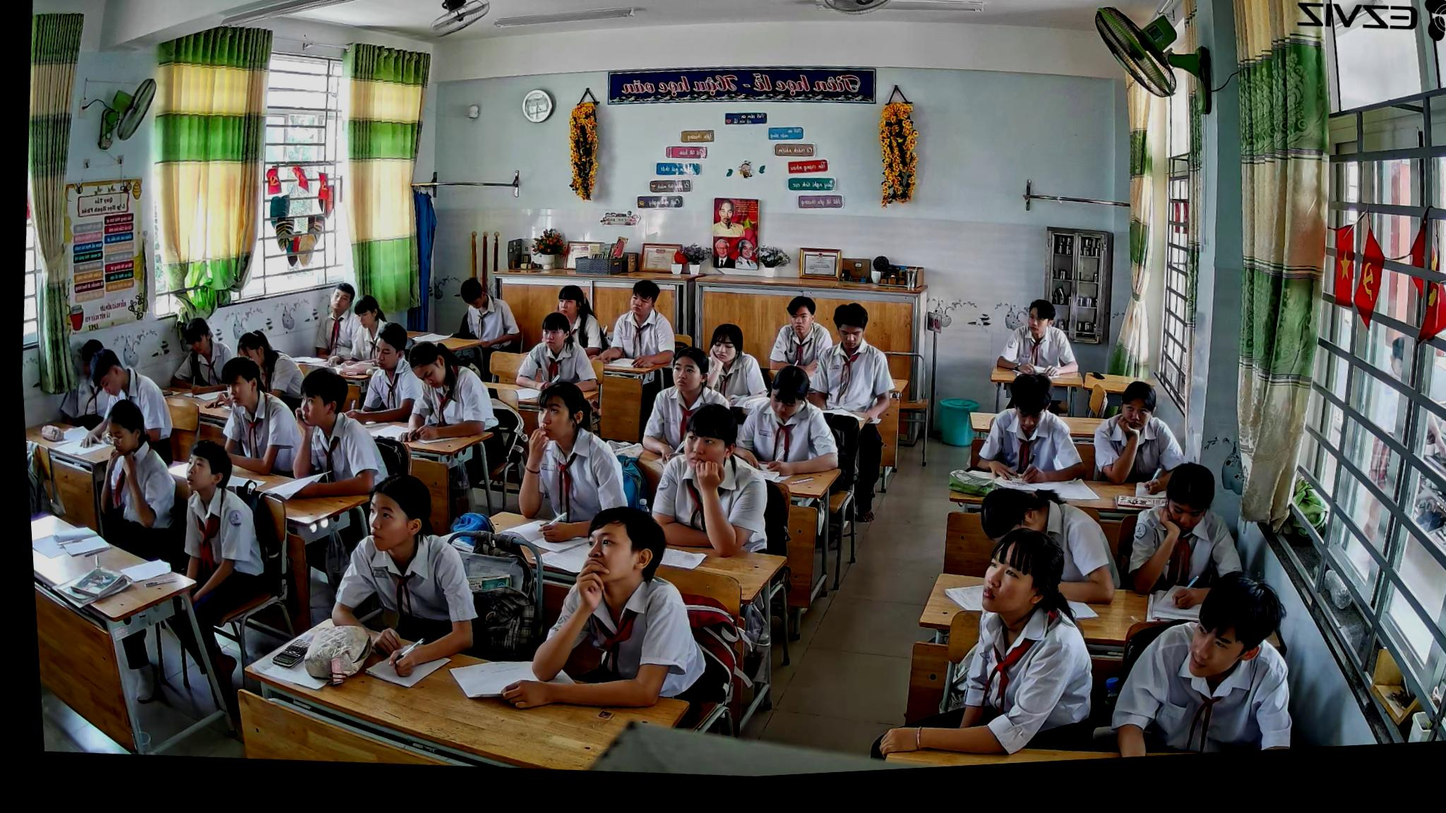person: (857, 512, 1111, 770), (486, 492, 724, 728), (1099, 559, 1306, 758), (317, 464, 496, 687), (160, 434, 284, 715), (790, 296, 913, 529), (639, 394, 780, 565), (506, 376, 641, 551), (1117, 455, 1259, 618), (972, 480, 1132, 613), (84, 394, 189, 565), (278, 361, 400, 506), (967, 365, 1096, 492), (721, 358, 851, 484), (1085, 376, 1195, 502), (391, 336, 507, 451), (72, 343, 182, 462), (209, 351, 310, 480), (635, 341, 740, 463), (333, 316, 430, 432), (510, 306, 605, 399), (594, 275, 683, 374), (991, 293, 1085, 384), (227, 325, 318, 411), (39, 334, 117, 434), (697, 319, 775, 418), (164, 312, 248, 401), (763, 292, 839, 386), (349, 291, 423, 372), (453, 274, 526, 356), (309, 280, 372, 365), (550, 282, 611, 362)
